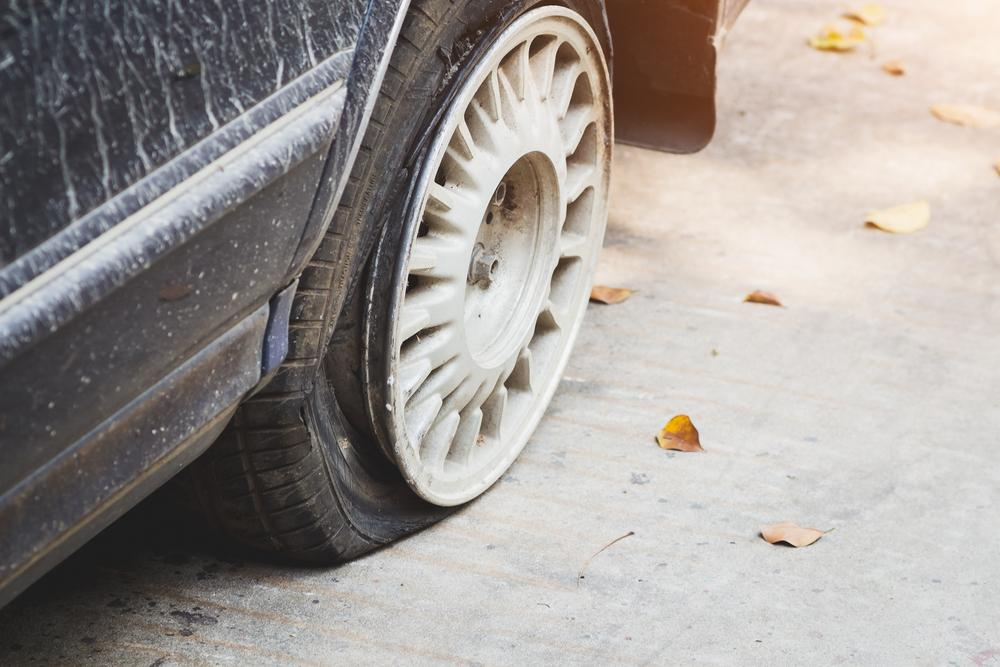tire flat: (183, 0, 619, 564)
